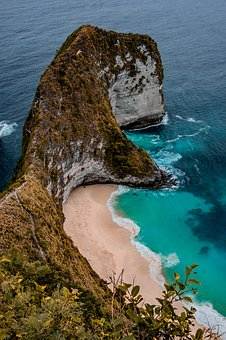mountain: (29, 20, 172, 338)
sea: (69, 51, 226, 308)
